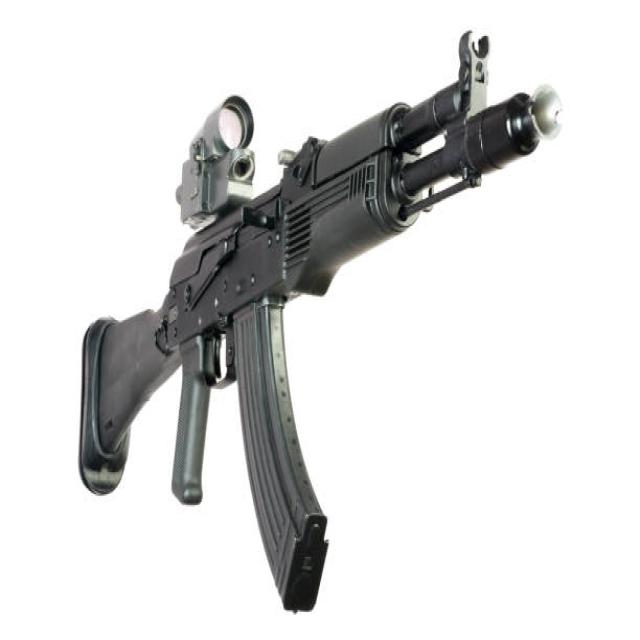rifle: (68, 20, 568, 624)
